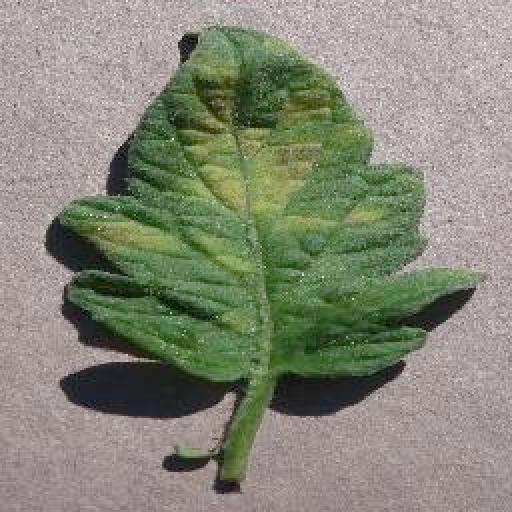disease_tomato: (60, 24, 490, 382)
